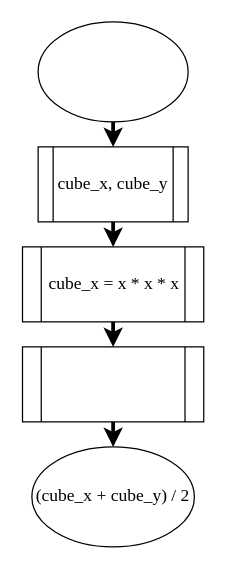
Some shapes in this 225 by 569 pixel diagram are drawn without their labels. The centre of each missing label's shape, as x and y in pixels:
cube_y = y * y * y: (x=112, y=384)
x, y: (x=112, y=71)
